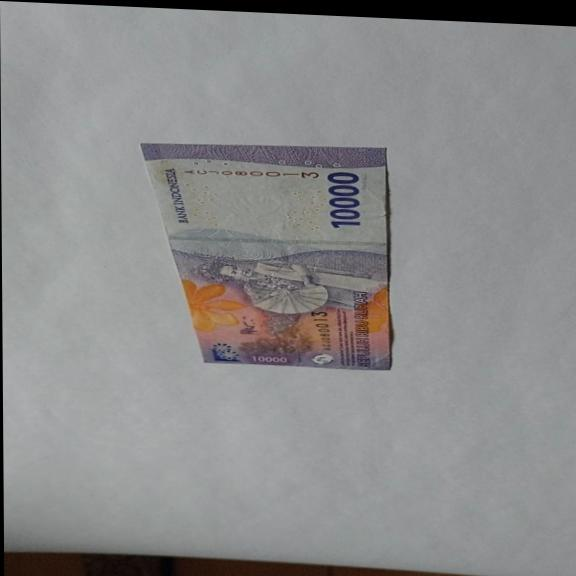Kertas: (138, 137, 394, 372), (324, 170, 363, 230)
